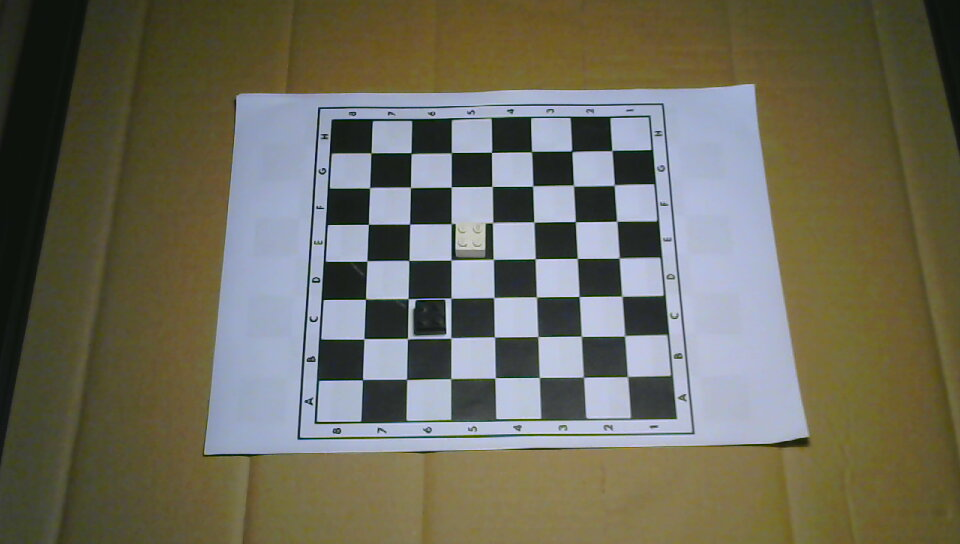bp: (414, 300, 446, 335)
wp: (454, 222, 486, 258)
